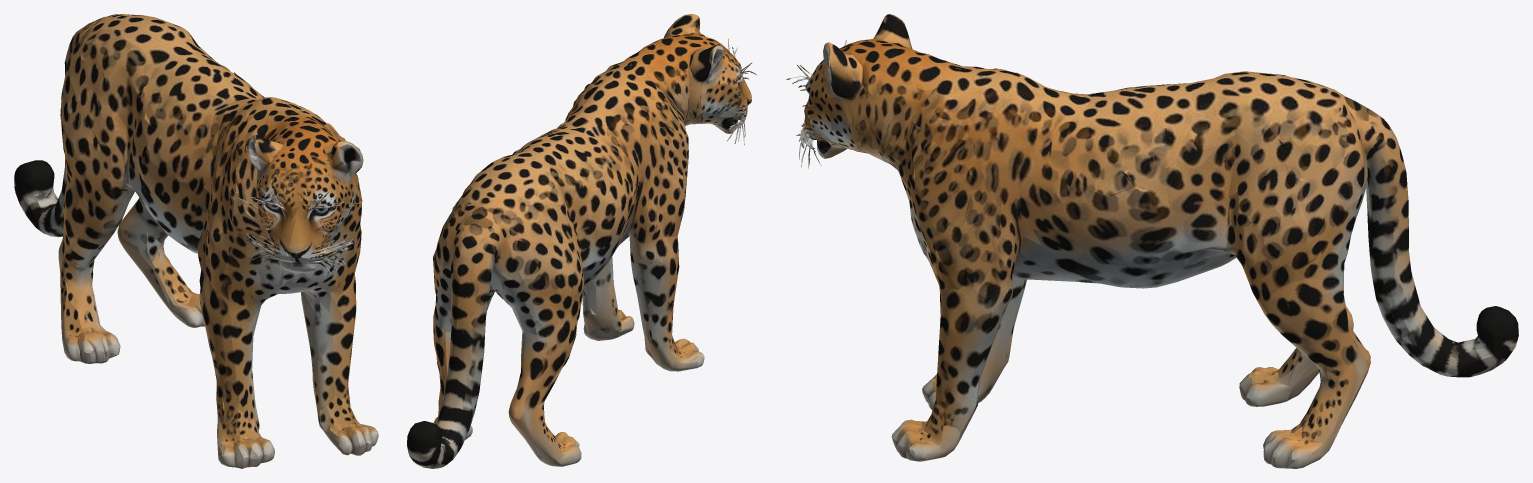
Rendered from jaguar.glb.
The picture shows the model from 3 angles, left to right: view 1: azimuth 30°, elevation 25°; view 2: azimuth 150°, elevation 25°; view 3: azimuth 270°, elevation 25°; orthographic projection. The views are drawn at different scales.
Size of the model in its own units: 0.5593 by 1.09 by 1.9.
Materials: 1 (1 with a texture image).
